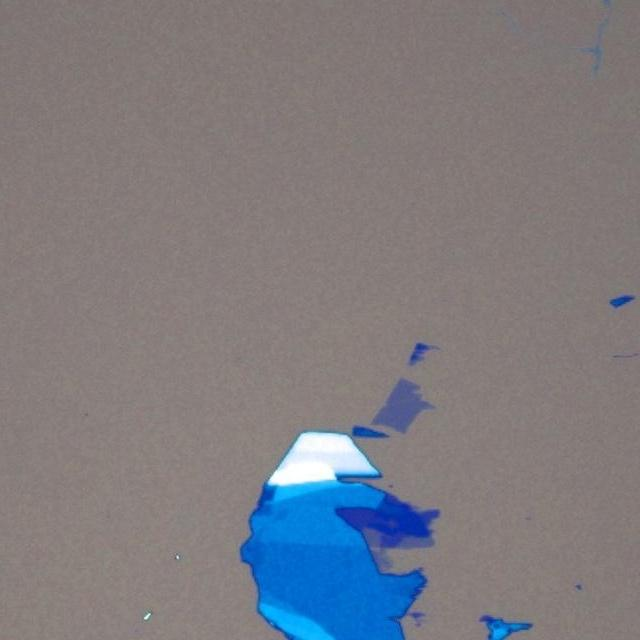monolayer-eWW4: (370, 374, 438, 435), (394, 534, 436, 549), (361, 526, 383, 548), (372, 552, 392, 572)
